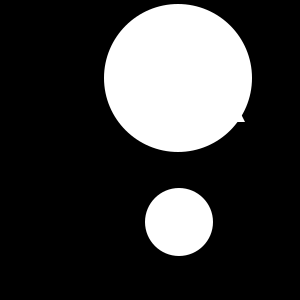rectangle: (104, 4, 252, 152), (145, 188, 213, 256), (180, 94, 224, 136)
triangle: (180, 57, 245, 122)
